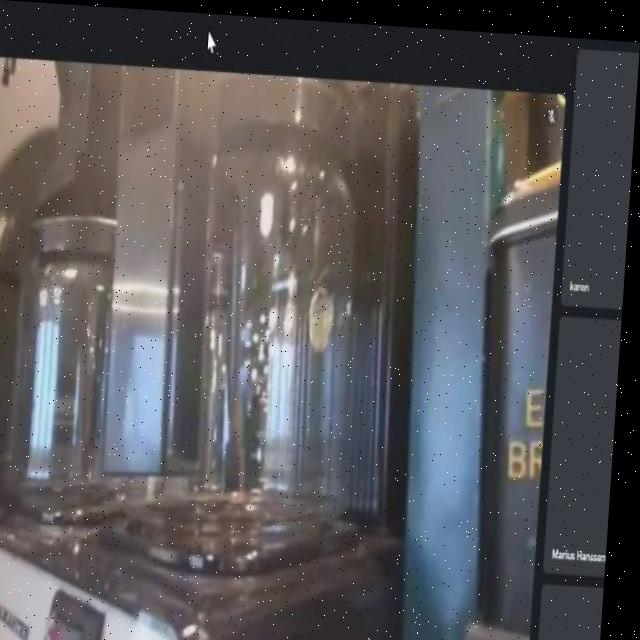nocoffee: (94, 62, 380, 598), (0, 176, 189, 555)
